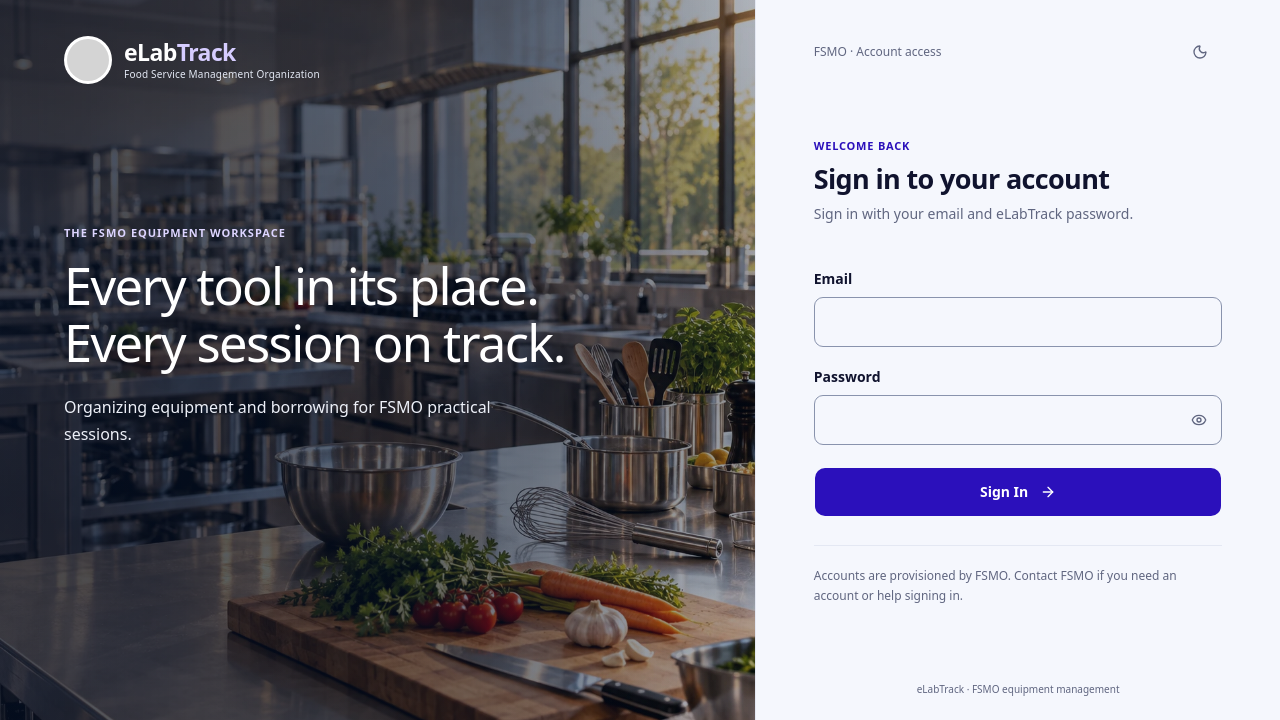
Test: Phase 4A product authentication › validates fields, exposes accessible errors, and never submits invalid credentials
Expected: the field labelled "Email" is shown, [814, 296, 1222, 346]
Step 1. Click the button "Sign In" → click(1018, 492), box [814, 466, 1222, 516]
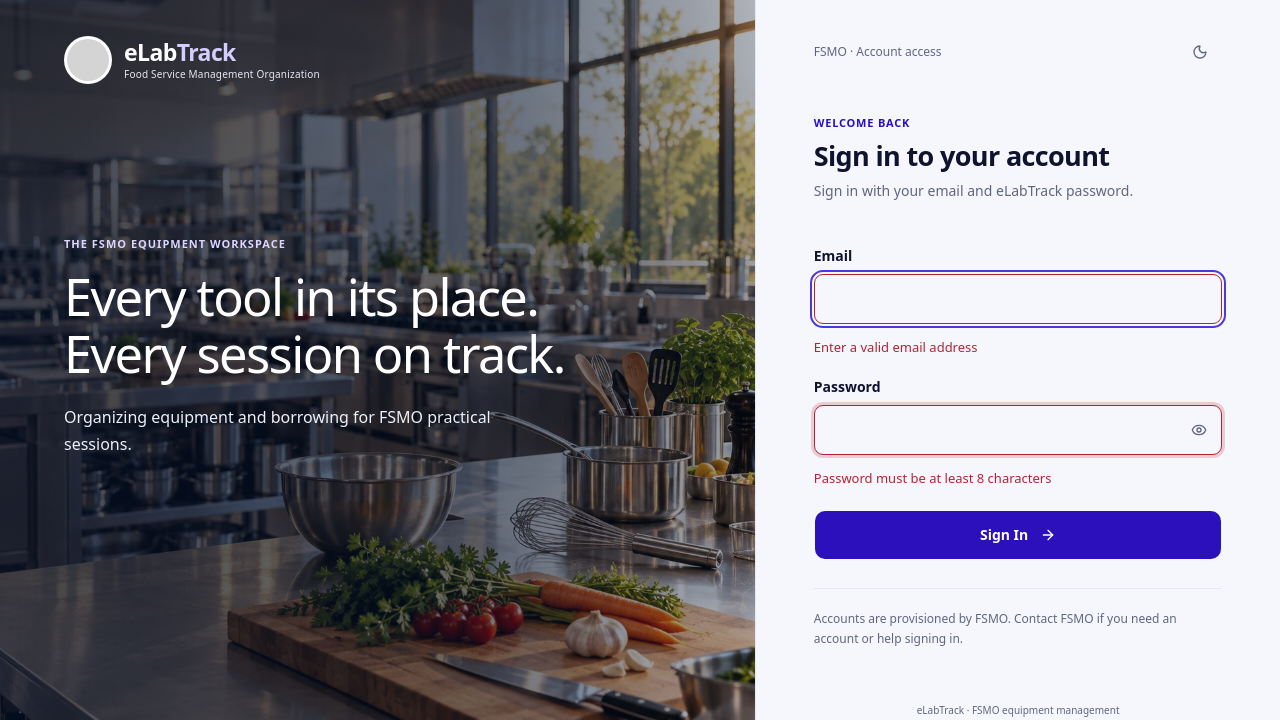
Now the text "Enter a valid email address" is shown, box [814, 338, 978, 356]
